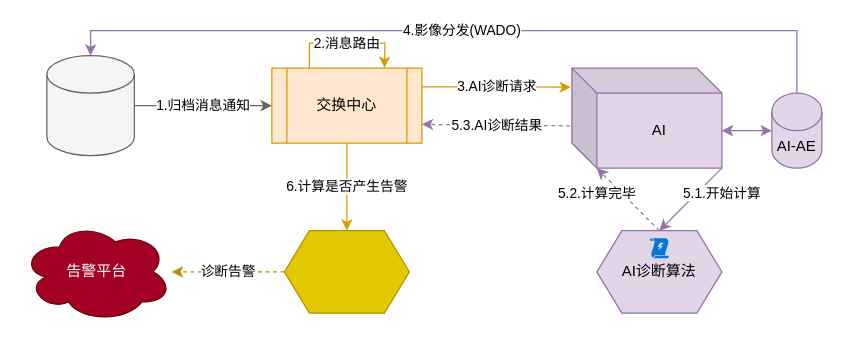
The diagram is 844 pixels wide and 344 high, and some of its shapes have lost their labels. The centre of each missing label's shape, as x and y in pixels:
"PACS/VNA" goes at pixel 90 105.
"告警计算模块" goes at pixel 346 271.
